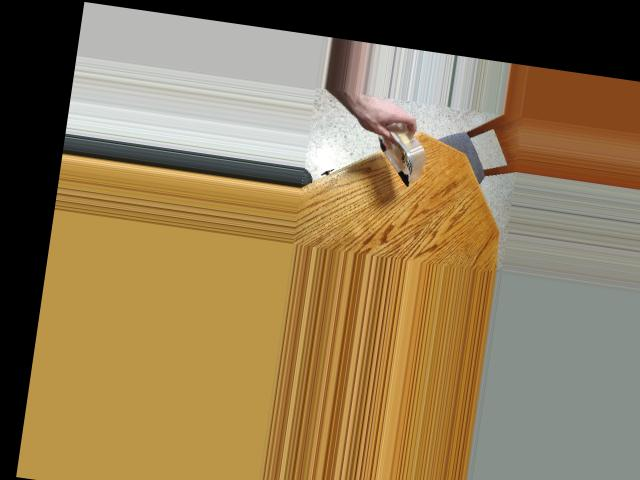cheese: (364, 116, 443, 183)
